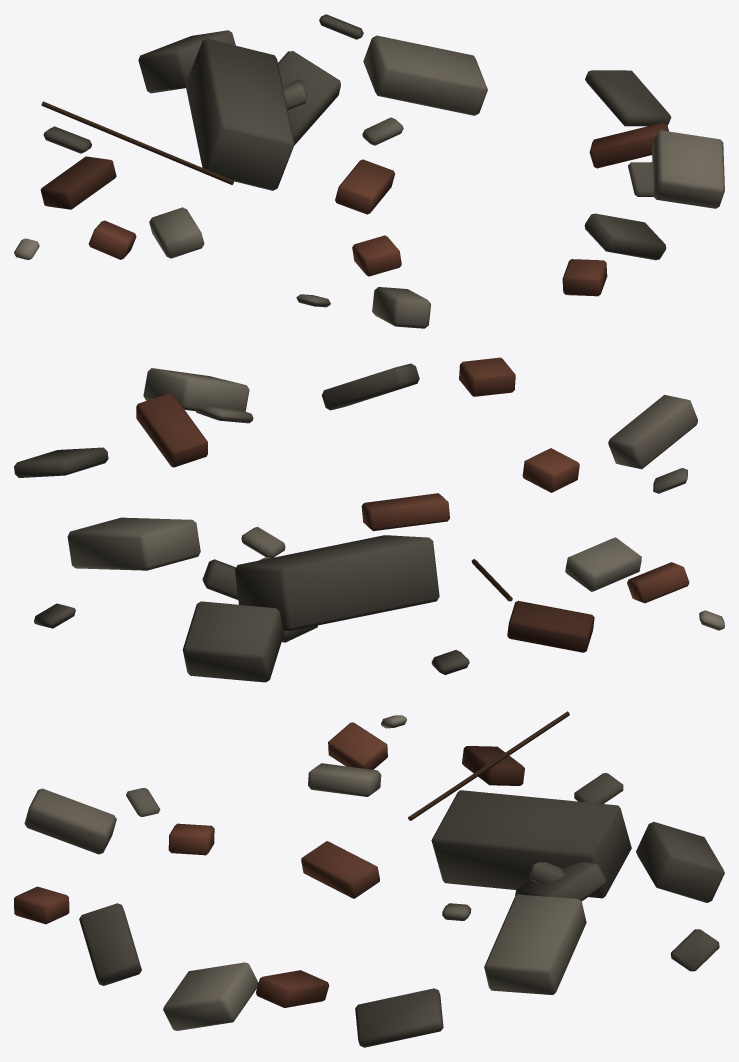
File: cascotes_c.glb
The picture shows the model from 3 angles, top to bottom: view 1: azimuth 30°, elevation 25°; view 2: azimuth 150°, elevation 25°; view 3: azimuth 270°, elevation 25°; orthographic projection. The views are drawn at different scales.
Parts seen in each view (by area): view 1: cascotes_c.001; view 2: cascotes_c.001; view 3: cascotes_c.001.
Part boxes in pixels (x1,y1,x2,y2): cascotes_c.001: (14,14,724,328); cascotes_c.001: (14,357,724,682); cascotes_c.001: (14,711,724,1047).
Bounding box in the file's own units: 2.32 × 0.3031 × 2.21.
